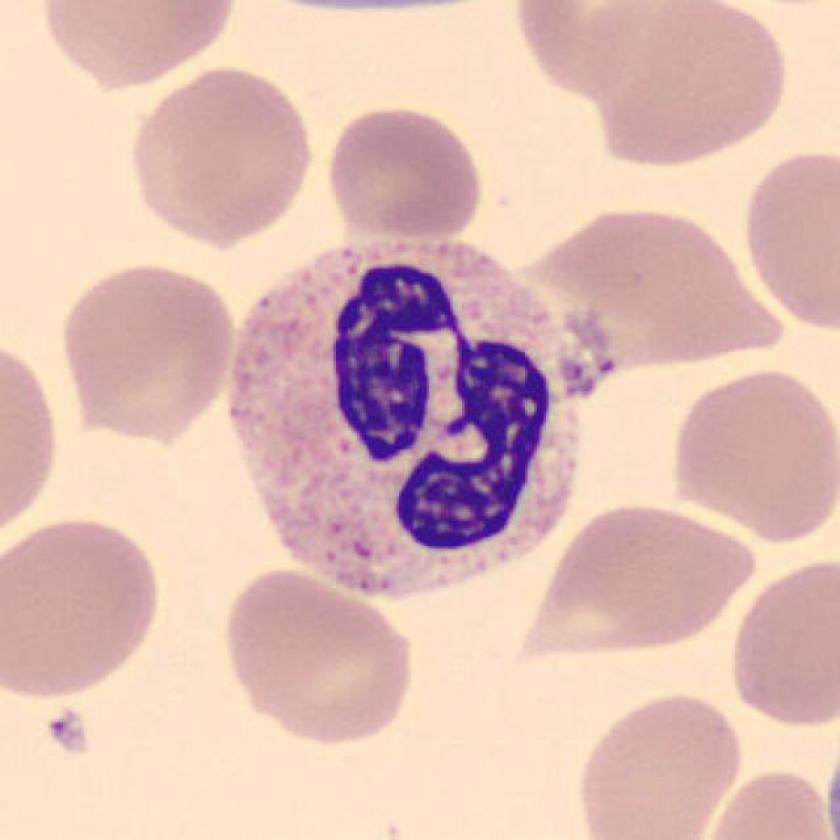neutrophil: (232, 236, 582, 597)
